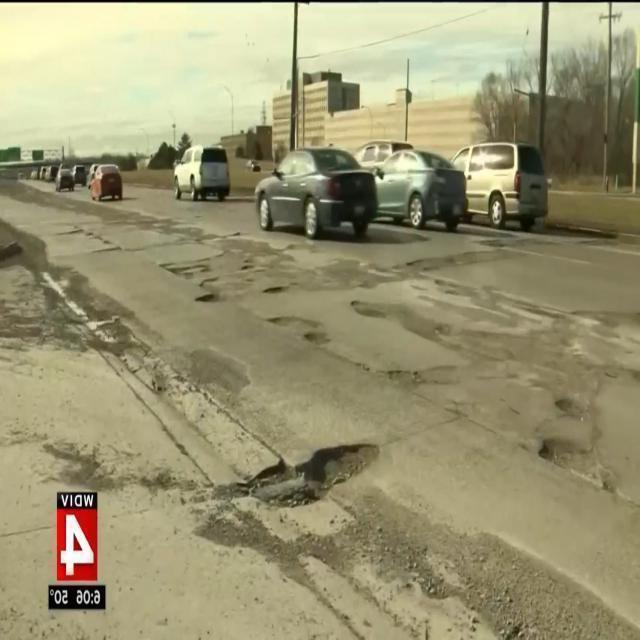Pothole: (237, 445, 375, 510), (543, 443, 601, 482)
